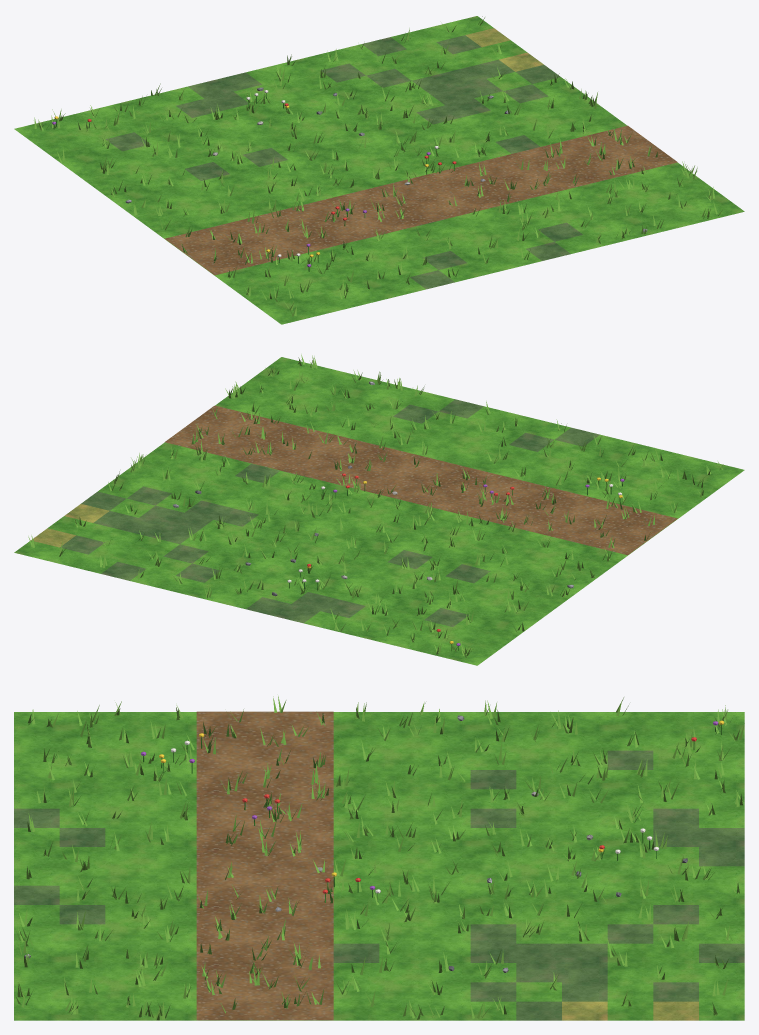
The model's file is chunk_7_15.glb.
The picture shows the model from 3 angles, top to bottom: view 1: azimuth 30°, elevation 25°; view 2: azimuth 150°, elevation 25°; view 3: azimuth 270°, elevation 25°; orthographic projection. The views are drawn at different scales.
Parts seen in each view (by area): view 1: chunk_7_15; view 2: chunk_7_15; view 3: chunk_7_15.
Boxes of the visible parts, box(x1,y1,x2,y2) form: chunk_7_15: box(14, 16, 744, 324); chunk_7_15: box(14, 354, 744, 665); chunk_7_15: box(14, 696, 744, 1020).
Bounding box in the file's own units: 16.26 × 0.4589 × 16.01.
13 materials, 8 textured.
